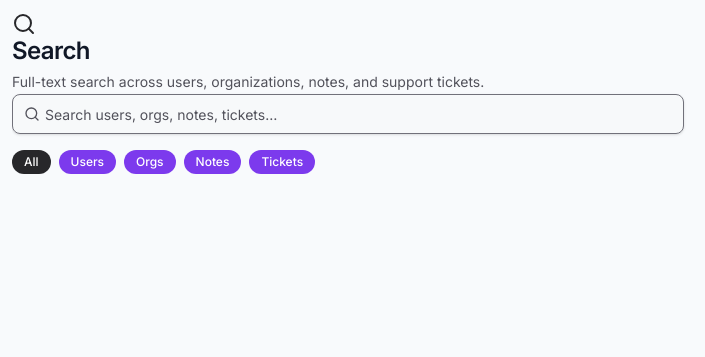
Scenario: search TanStack Query server state › searches through apiClient/TanStack Query after debounce, not legacy api
Type "user" into the field named "Search query".
click(348, 114); type("user")  # box x1=12 y1=94 x2=684 y2=134
Wait 350 ms
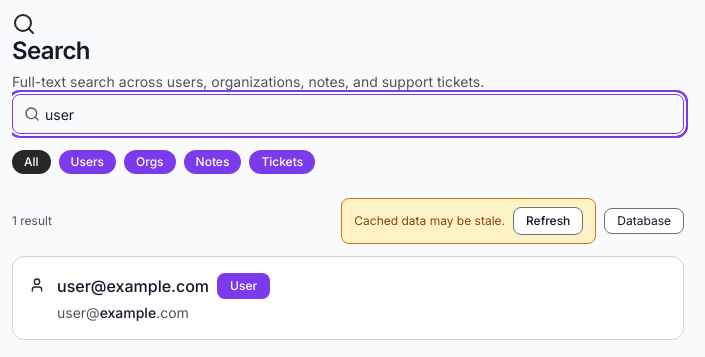
Expected: the text "user@example.com" is shown, x1=57 y1=274 x2=209 y2=298
